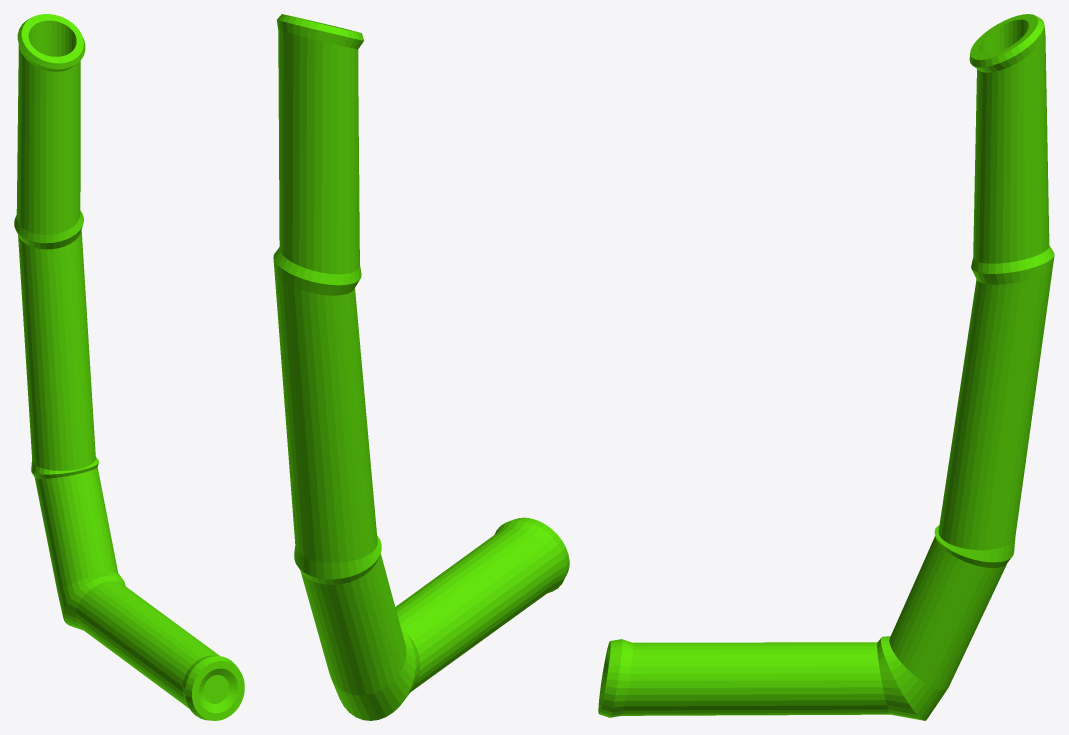
The model's file is tuba.fbx.
3 renders of one model, left to right at view 1: azimuth 30°, elevation 25°; view 2: azimuth 150°, elevation 25°; view 3: azimuth 270°, elevation 25°, orthographic. The views are drawn at different scales.
Visible parts, largest first — view 1: Cylinder.004; view 2: Cylinder.004; view 3: Cylinder.004.
Part boxes in pixels (box(x1,y1,x2,y2)): Cylinder.004: box(14, 14, 244, 720); Cylinder.004: box(273, 14, 569, 720); Cylinder.004: box(598, 14, 1054, 720).
Size of the model in its own units: 80.38 by 732 by 434.
